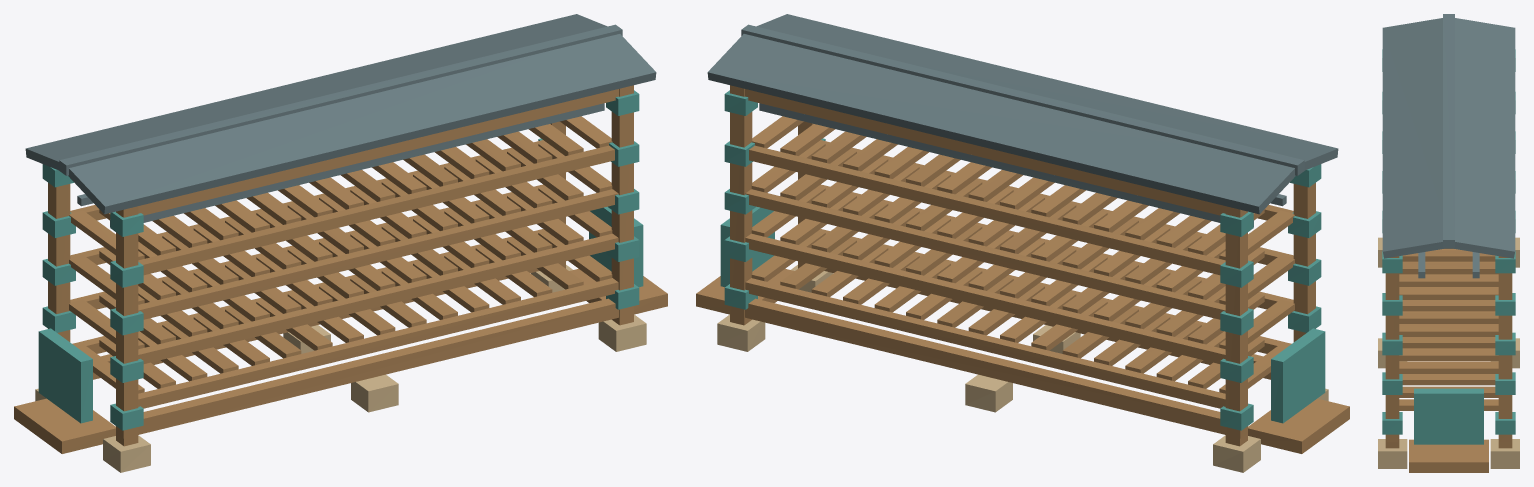
The model's file is Drying-Rack.glb.
3 renders of one model, left to right at view 1: azimuth 30°, elevation 25°; view 2: azimuth 150°, elevation 25°; view 3: azimuth 270°, elevation 25°, orthographic. The views are drawn at different scales.
Visible parts, largest first — view 1: drying-rack-static-drying-rack-warm-timber-mat, drying-rack-static-drying-rack-pale-galvanized-mat, drying-rack-static-drying-rack-blue-grey-connector-mat, drying-rack-static-drying-rack-dark-iron-mat, drying-rack-static-drying-rack-warm-stone-anchor-mat; view 2: drying-rack-static-drying-rack-warm-timber-mat, drying-rack-static-drying-rack-pale-galvanized-mat, drying-rack-static-drying-rack-blue-grey-connector-mat, drying-rack-static-drying-rack-dark-iron-mat, drying-rack-static-drying-rack-warm-stone-anchor-mat; view 3: drying-rack-static-drying-rack-pale-galvanized-mat, drying-rack-static-drying-rack-warm-timber-mat, drying-rack-static-drying-rack-blue-grey-connector-mat, drying-rack-static-drying-rack-dark-iron-mat, drying-rack-static-drying-rack-warm-stone-anchor-mat.
Boxes of the visible parts, box(x1,y1,x2,y2) form: drying-rack-static-drying-rack-warm-timber-mat: box(14, 85, 667, 453); drying-rack-static-drying-rack-pale-galvanized-mat: box(25, 14, 656, 214); drying-rack-static-drying-rack-blue-grey-connector-mat: box(38, 90, 643, 430); drying-rack-static-drying-rack-dark-iron-mat: box(59, 24, 622, 226); drying-rack-static-drying-rack-warm-stone-anchor-mat: box(35, 265, 646, 472); drying-rack-static-drying-rack-warm-timber-mat: box(696, 85, 1349, 453); drying-rack-static-drying-rack-pale-galvanized-mat: box(707, 14, 1338, 214); drying-rack-static-drying-rack-blue-grey-connector-mat: box(720, 90, 1325, 430); drying-rack-static-drying-rack-dark-iron-mat: box(741, 24, 1304, 226); drying-rack-static-drying-rack-warm-stone-anchor-mat: box(717, 265, 1328, 472); drying-rack-static-drying-rack-pale-galvanized-mat: box(1382, 18, 1515, 258); drying-rack-static-drying-rack-warm-timber-mat: box(1385, 248, 1512, 472); drying-rack-static-drying-rack-blue-grey-connector-mat: box(1382, 49, 1515, 444); drying-rack-static-drying-rack-dark-iron-mat: box(1418, 14, 1479, 278); drying-rack-static-drying-rack-warm-stone-anchor-mat: box(1378, 237, 1519, 468).
Bounding box in the file's own units: 5.99 × 2.67 × 1.46.
